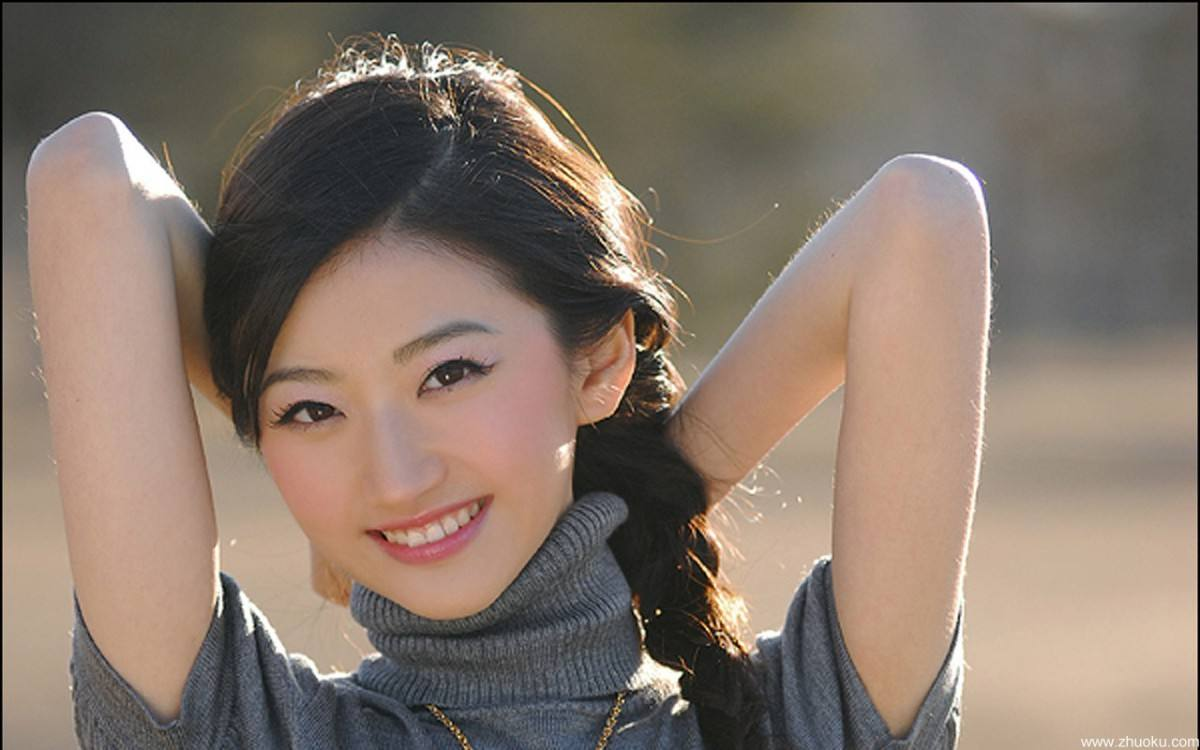person: (191, 96, 791, 647)
